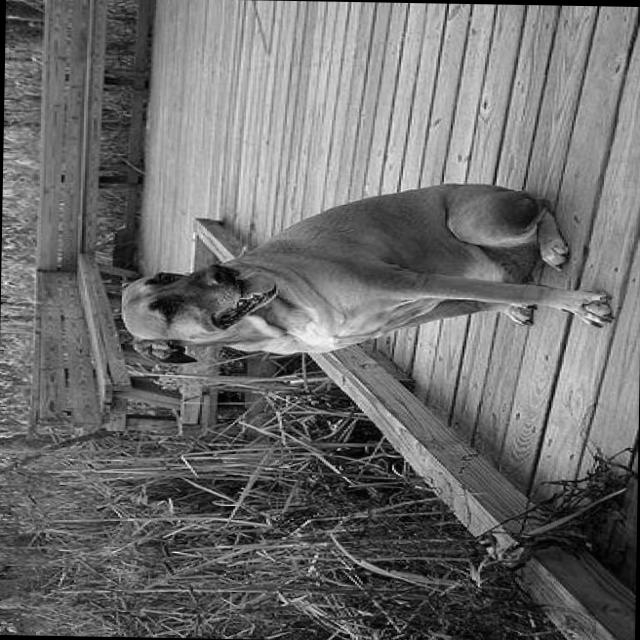sitting: (114, 170, 619, 372)
